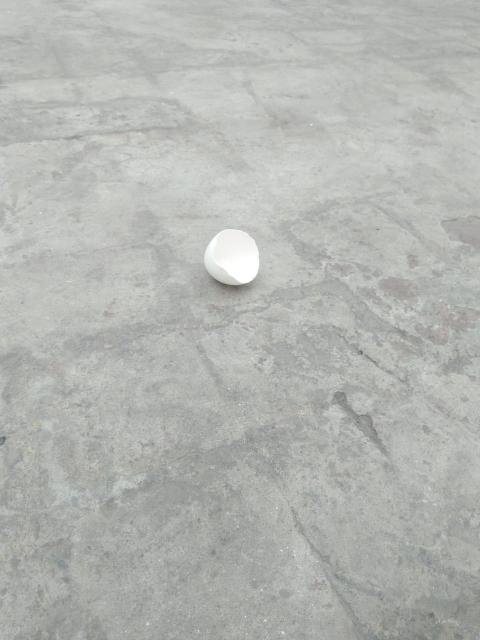Roto: (203, 228, 260, 286)
